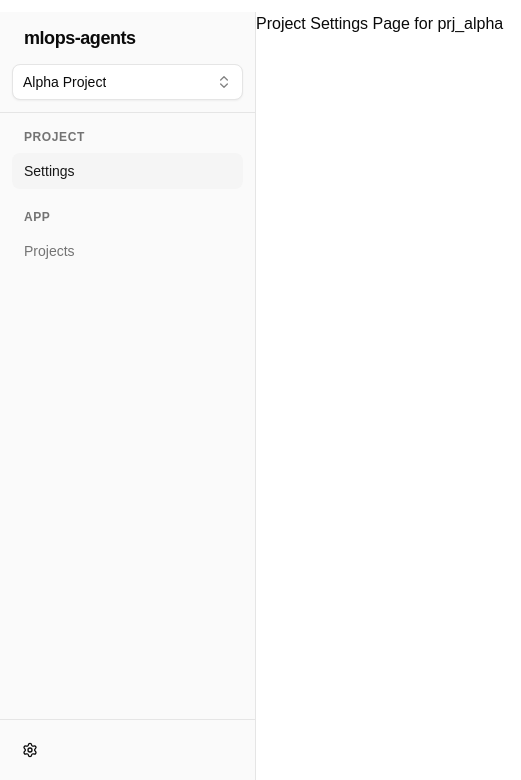
Test: ProjectSwitcher › shows the current project name when on a project page and lists all projects ending with 'All projects'
This screenshot has width=521, height=780.
Click the button "Alpha Project".
click(128, 82)  # box [12,64,243,100]
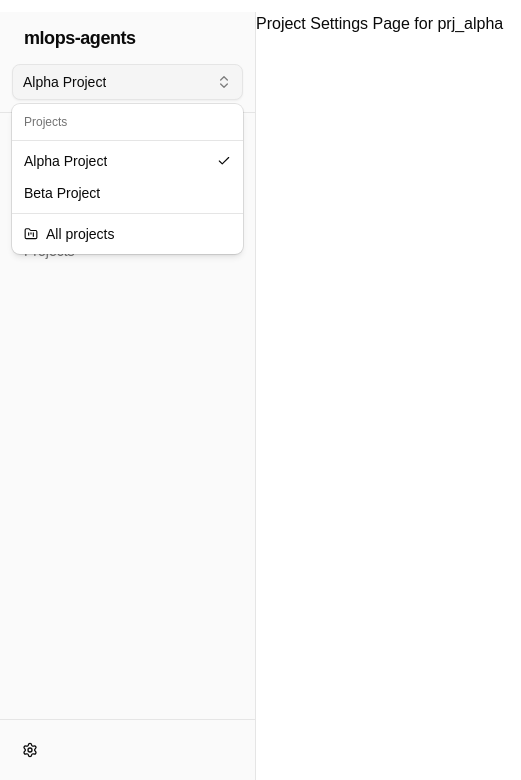
Now the menu item "Beta Project" is shown, box [24,185,100,201]
Now the menu item "All projects" is shown, box [24,226,114,242]
